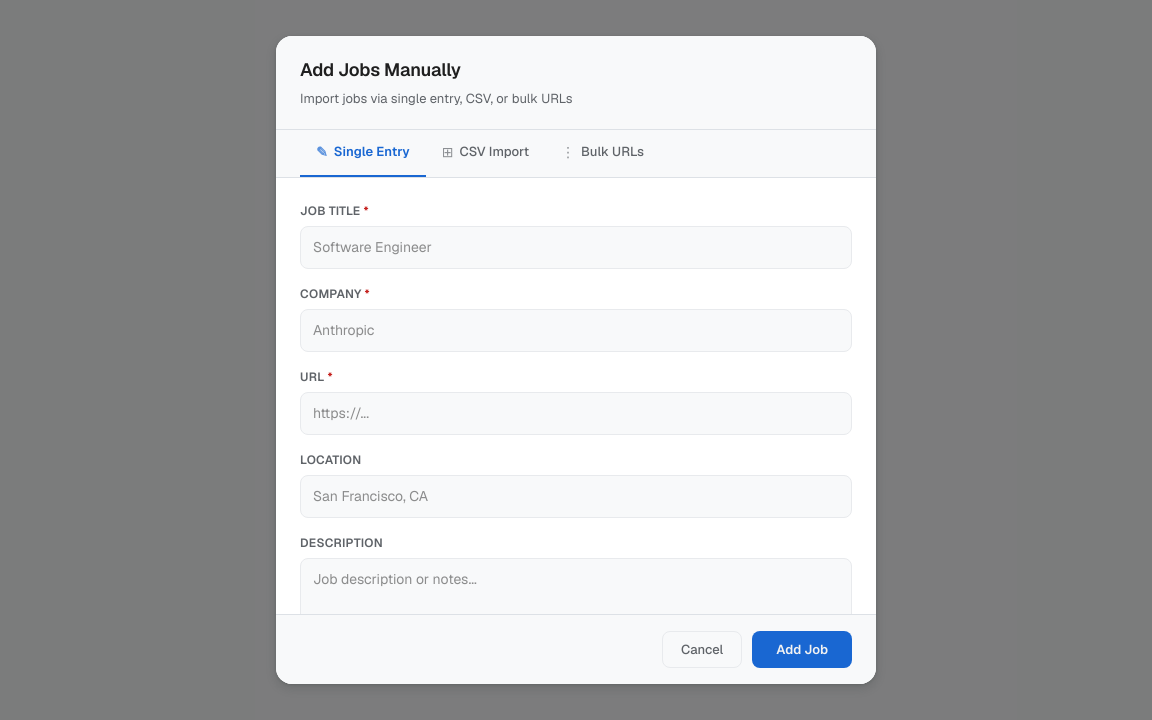
Test case: ManualJobEntry › clicking CSV Import tab changes active view to CSV
This screenshot has width=1152, height=720.
Click the tab "⊞ CSV Import" at (485, 153), box [426,130,545,176]
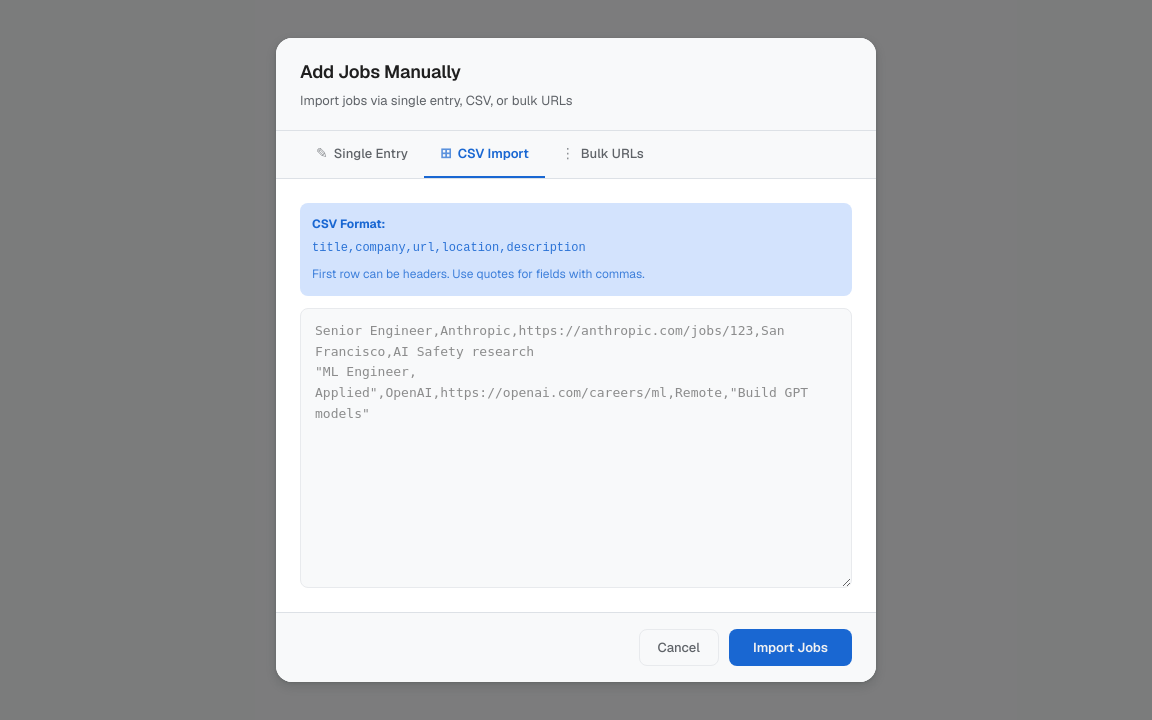
Expected: the field with placeholder "Software Engineer" is not shown
Result: the text "CSV Format:" is shown at [312,216,385,232]
Result: the button "Import Jobs" is shown at [729,629,852,666]
